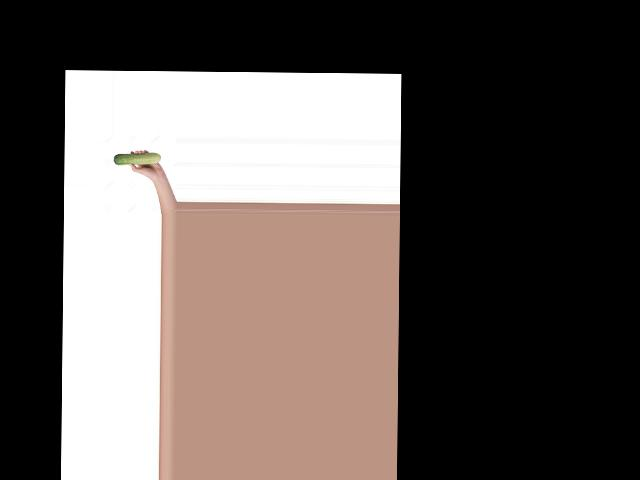cucumber: (113, 153, 161, 166)
